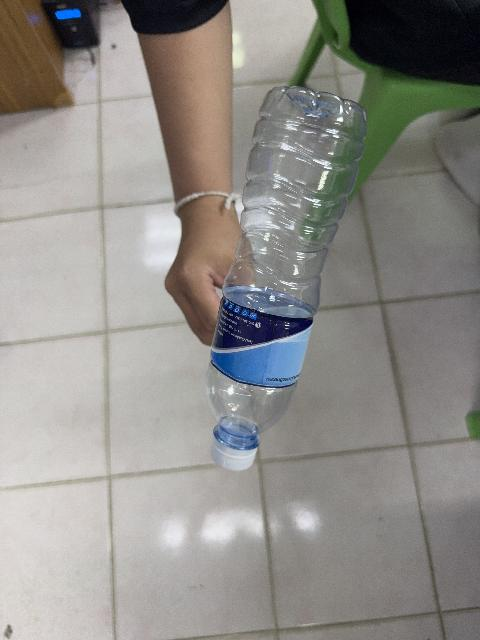bottle: (207, 87, 366, 469)
